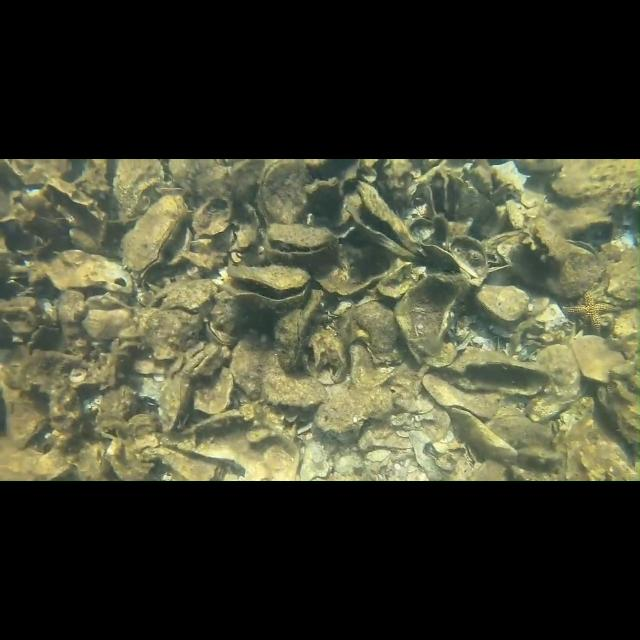Oyster-Closed: (121, 195, 188, 271), (551, 159, 640, 206), (105, 414, 159, 480), (430, 168, 494, 223), (422, 374, 499, 419), (258, 159, 309, 224), (548, 242, 604, 298), (599, 234, 640, 304), (139, 308, 200, 351), (262, 369, 328, 408), (571, 335, 625, 382), (476, 285, 529, 322), (376, 259, 425, 299), (161, 279, 218, 311), (49, 384, 82, 434), (181, 342, 225, 378), (82, 309, 132, 340), (192, 198, 231, 235), (450, 235, 488, 272), (206, 310, 239, 345)
Oyster-Open: (345, 181, 424, 258), (446, 348, 549, 396), (512, 216, 570, 285), (222, 265, 310, 310), (45, 178, 106, 242), (264, 224, 338, 272)
